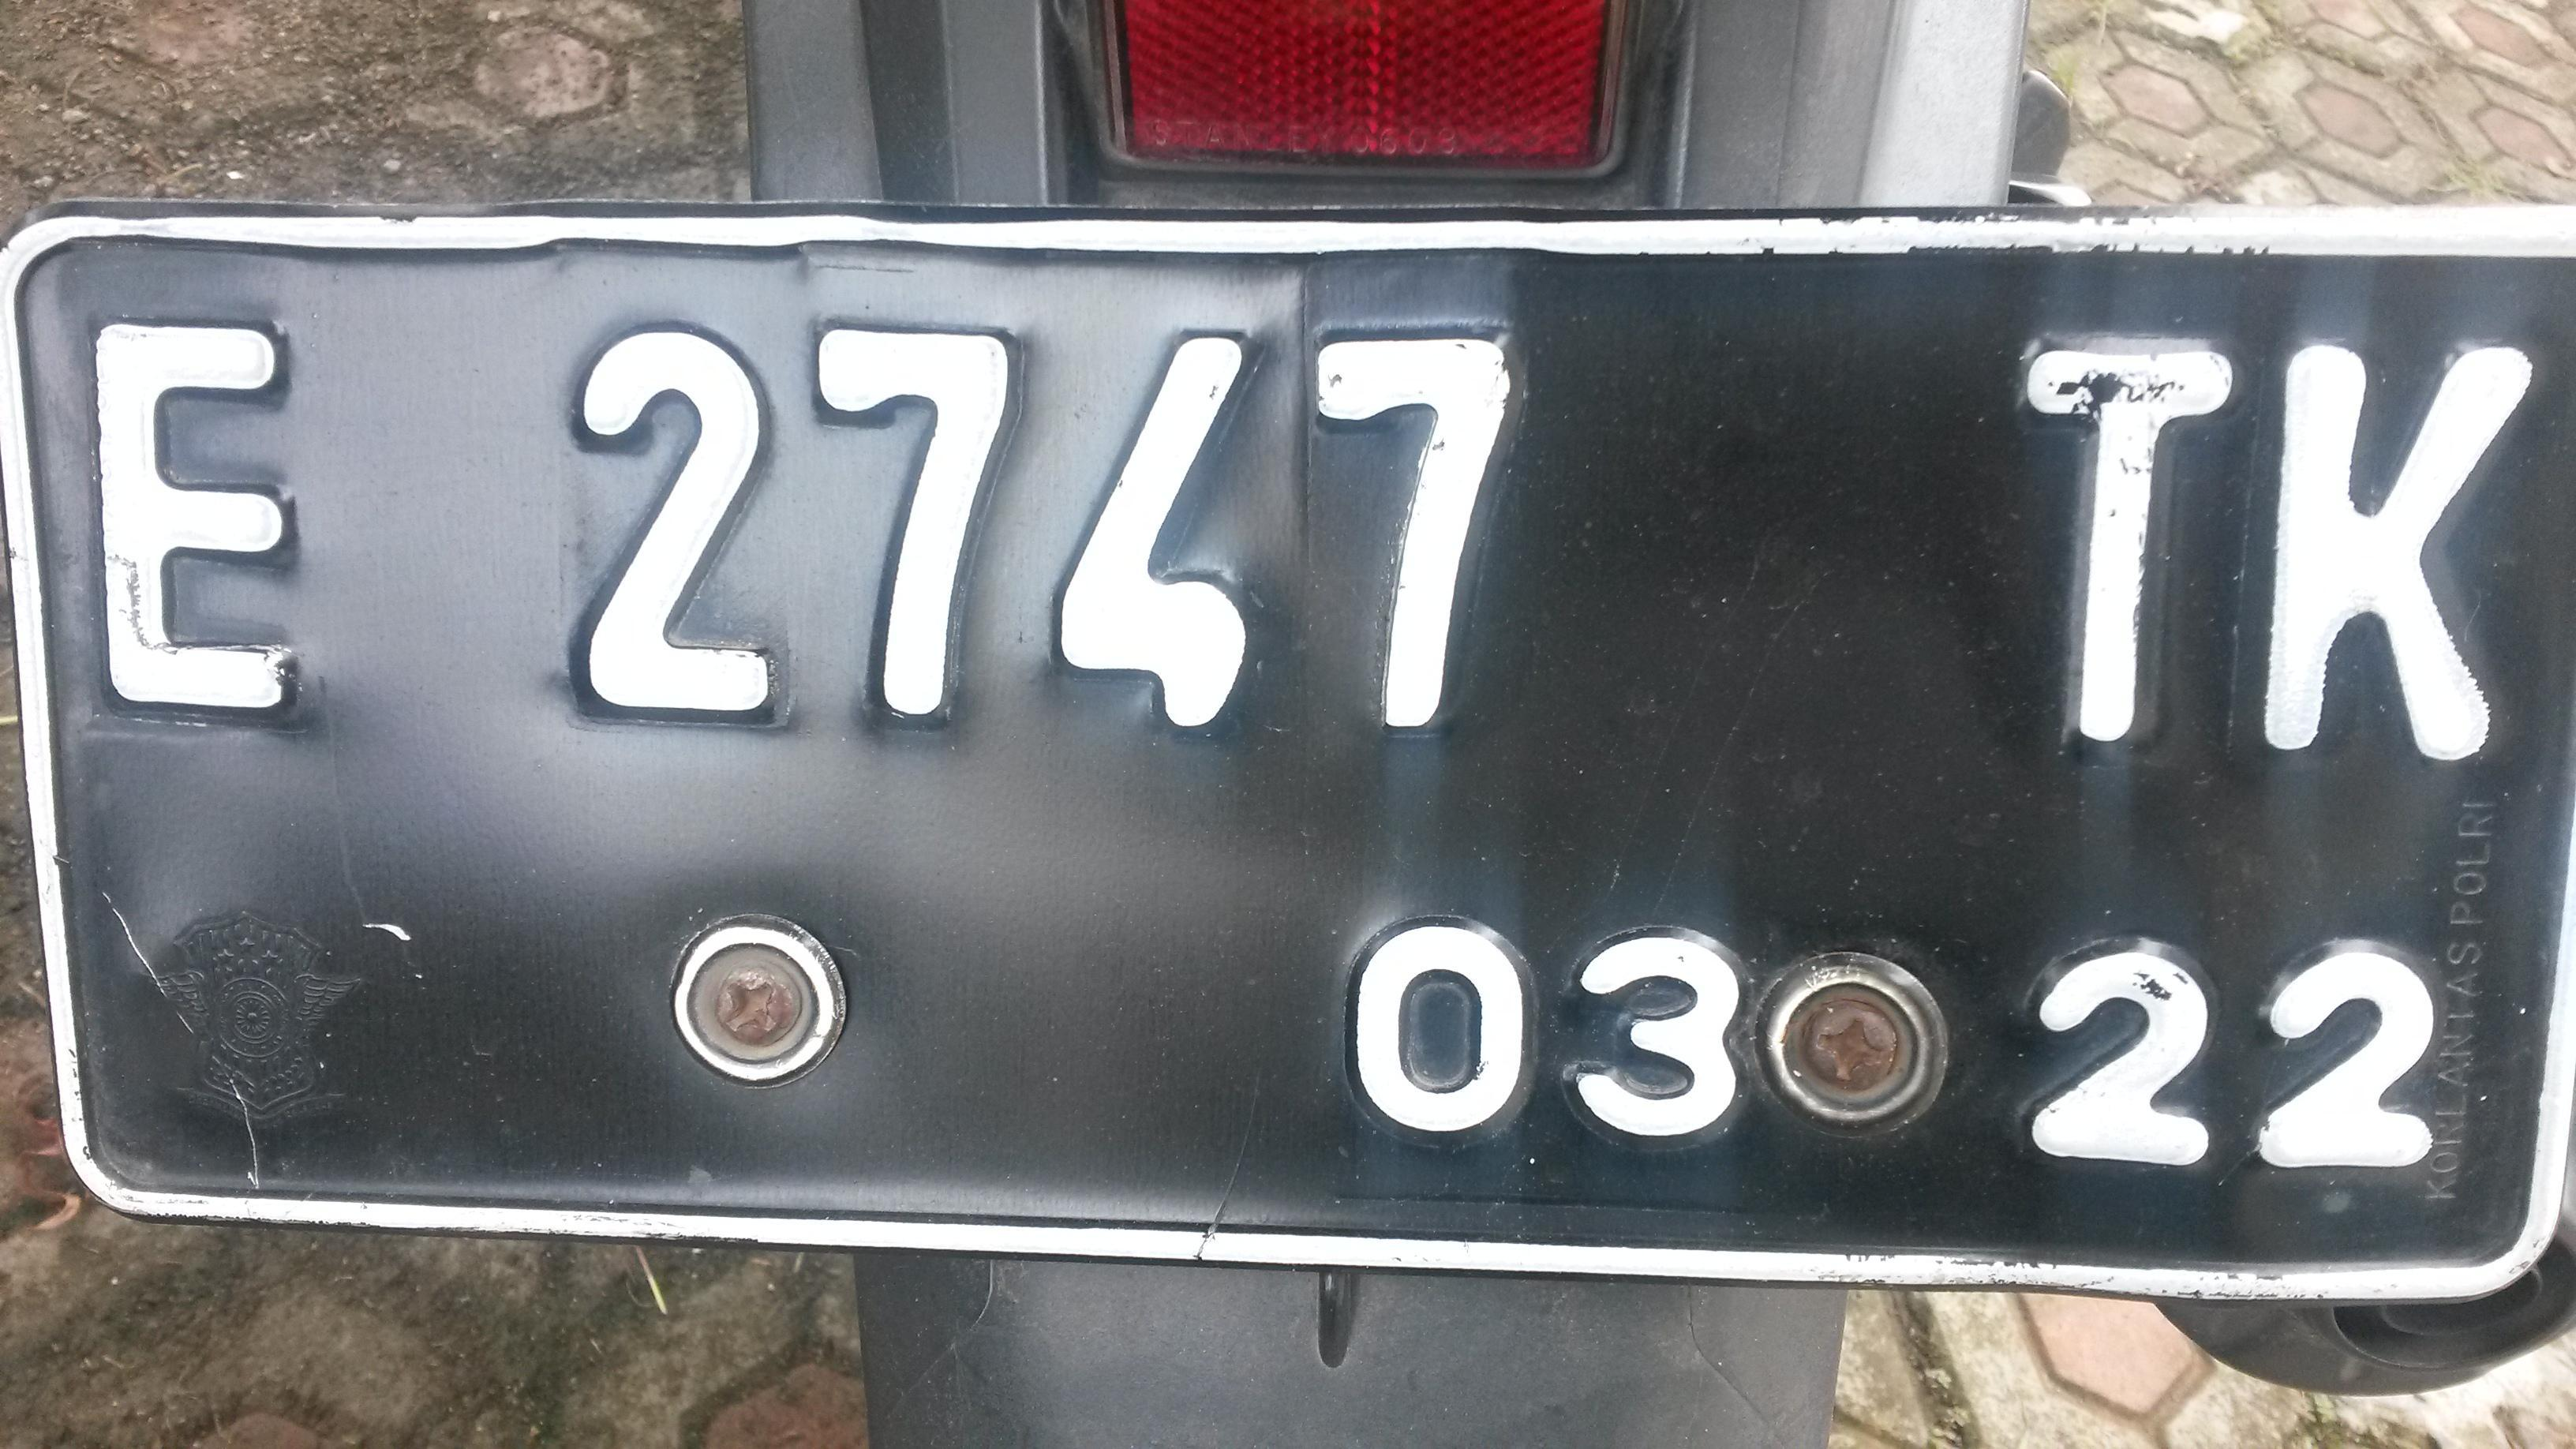clone-license-plate: (0, 205, 2575, 1312)
